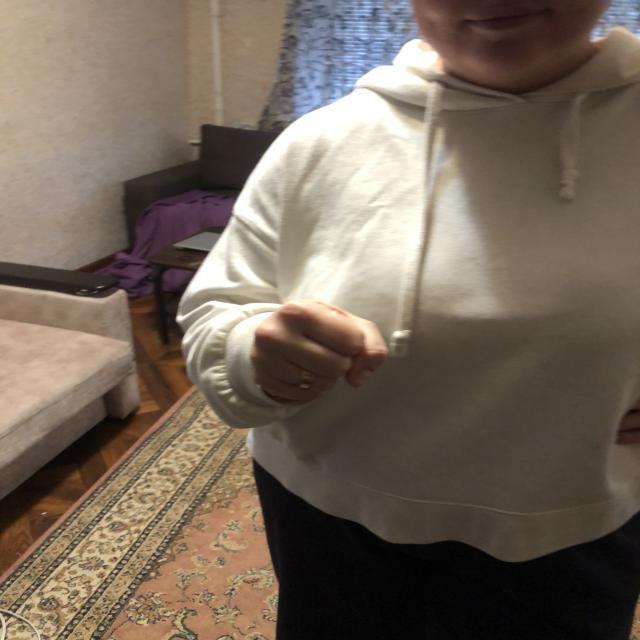rock: (252, 303, 392, 404)
